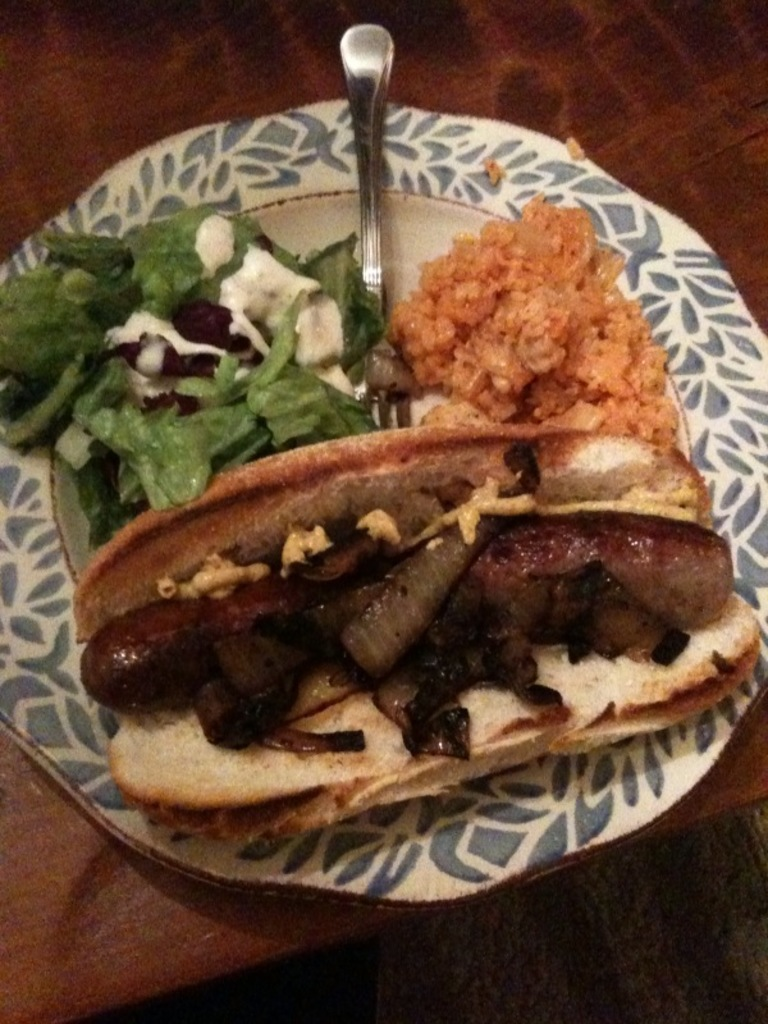sandwich: (65, 415, 764, 842)
